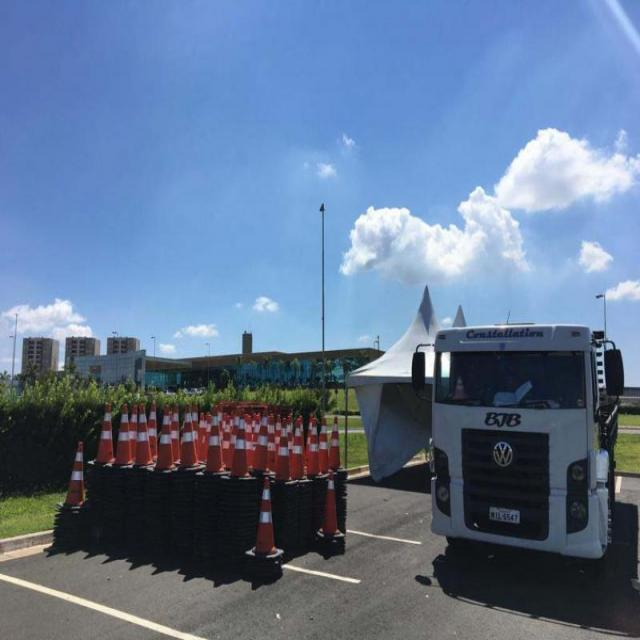cone: (247, 482, 285, 565), (58, 446, 88, 504), (317, 478, 343, 540), (203, 402, 223, 473), (114, 401, 134, 468), (177, 406, 196, 468), (95, 400, 113, 464), (232, 410, 246, 473), (158, 406, 171, 469)
